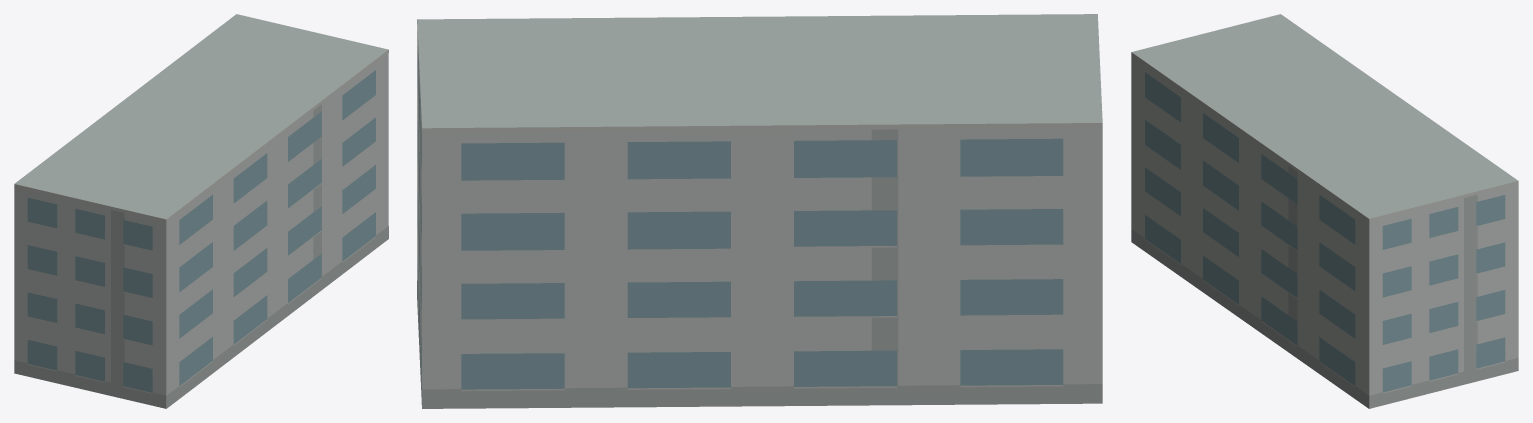
File: residential-7d299b12-5639-474d-b588-32217831b991.glb
3 renders of one model, left to right at view 1: azimuth 30°, elevation 25°; view 2: azimuth 150°, elevation 25°; view 3: azimuth 270°, elevation 25°, orthographic. The views are drawn at different scales.
Parts seen in each view (by area): view 1: residential-7d299b12-5639-474d-b588-32217831b991.tmp; view 2: residential-7d299b12-5639-474d-b588-32217831b991.tmp; view 3: residential-7d299b12-5639-474d-b588-32217831b991.tmp.
Boxes of the visible parts, x1,y1,x2,y2 form: residential-7d299b12-5639-474d-b588-32217831b991.tmp: [14, 14, 388, 408]; residential-7d299b12-5639-474d-b588-32217831b991.tmp: [417, 14, 1102, 408]; residential-7d299b12-5639-474d-b588-32217831b991.tmp: [1131, 14, 1518, 408].
Bounding box in the file's own units: 32.38 × 14 × 25.86.
